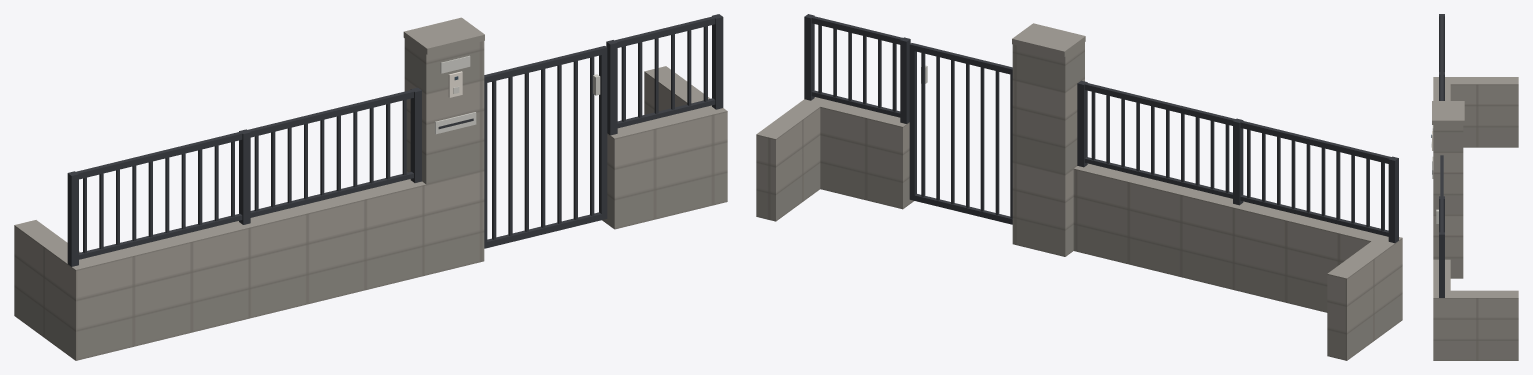
Rendered from SM_Lot_FrontWall_Block_450_01.fbx.
The picture shows the model from 3 angles, left to right: view 1: azimuth 30°, elevation 25°; view 2: azimuth 150°, elevation 25°; view 3: azimuth 270°, elevation 25°; orthographic projection. The views are drawn at different scales.
Parts seen in each view (by area): view 1: SM_Lot_FrontWall_Block_450_01; view 2: SM_Lot_FrontWall_Block_450_01; view 3: SM_Lot_FrontWall_Block_450_01.
Boxes of the visible parts, bbox=[...] form: SM_Lot_FrontWall_Block_450_01: bbox=[14, 14, 727, 360]; SM_Lot_FrontWall_Block_450_01: bbox=[756, 14, 1402, 360]; SM_Lot_FrontWall_Block_450_01: bbox=[1431, 14, 1518, 360].
Bounding box in the file's own units: 4.5 × 1.5 × 0.751.
Materials: 1 (1 with a texture image).
